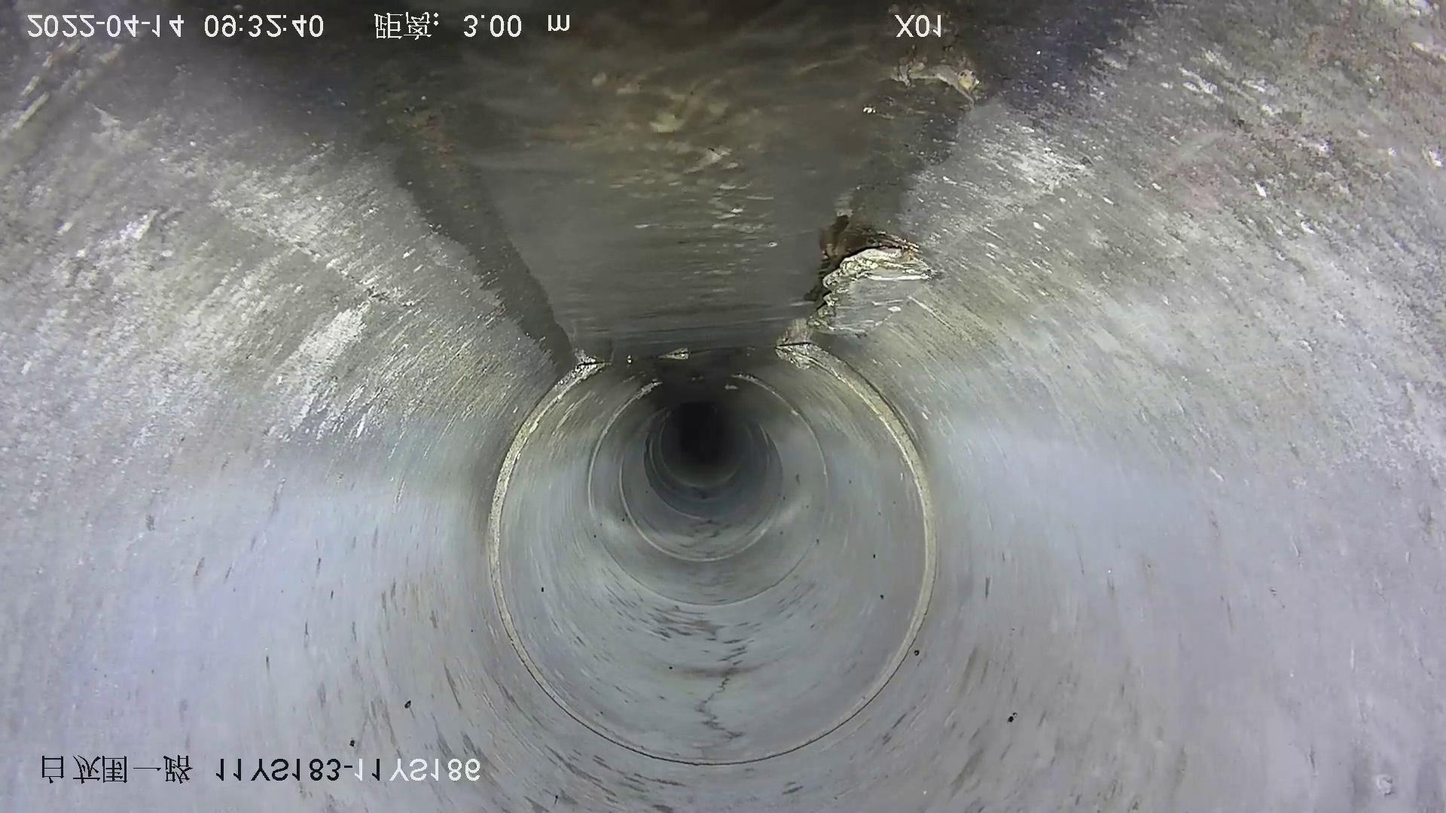JG: (810, 243, 934, 333)
